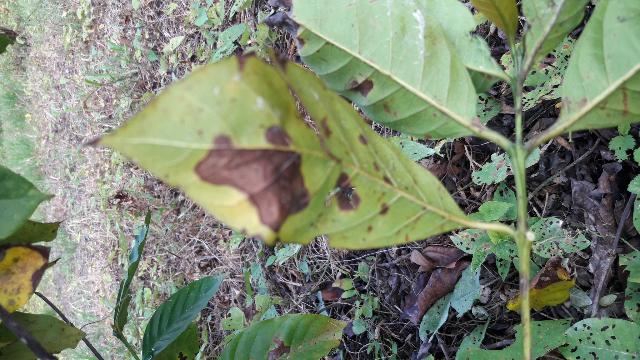red_spider_mite: (92, 52, 464, 250)
